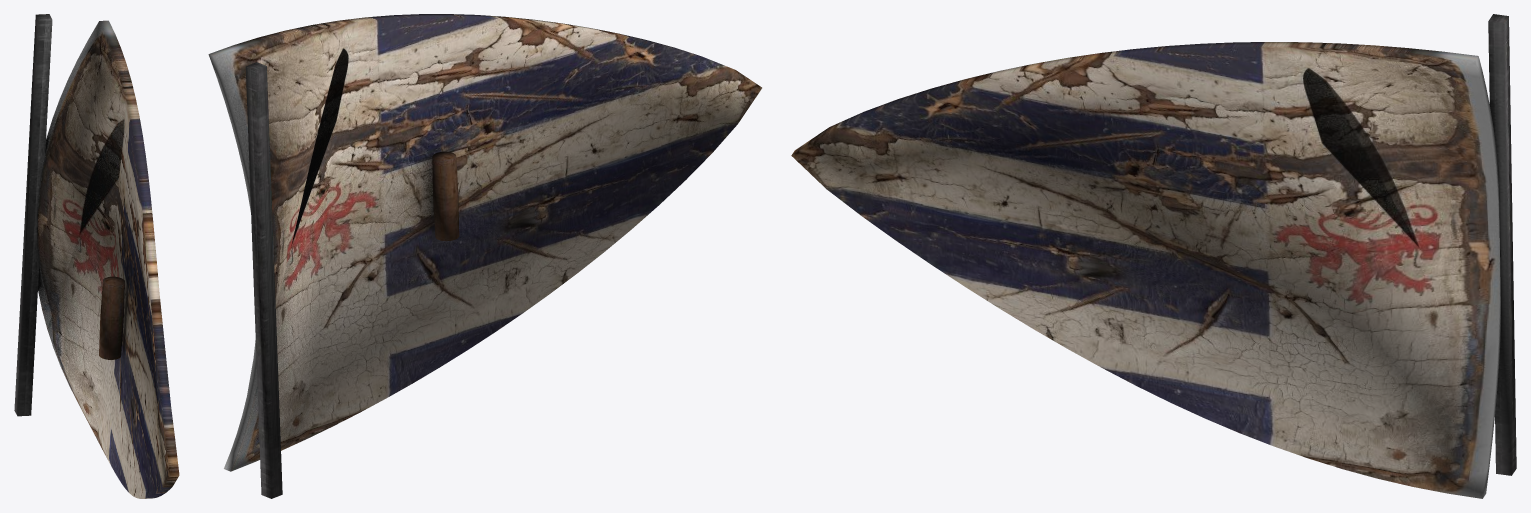
Rendered from shield_tower.glb.
3 views of the same model, side by side, from view 1: azimuth 30°, elevation 25°; view 2: azimuth 150°, elevation 25°; view 3: azimuth 270°, elevation 25° (orthographic). The views are drawn at different scales.
Visible parts, largest first — view 1: heater; view 2: heater; view 3: heater.
Boxes of the visible parts, x1,y1,x2,y2 form: heater: (14, 14, 179, 498); heater: (208, 14, 761, 498); heater: (791, 14, 1516, 498).
Size of the model in its own units: 0.3758 by 0.6202 by 0.8797.
Materials: 1 (1 with a texture image).
